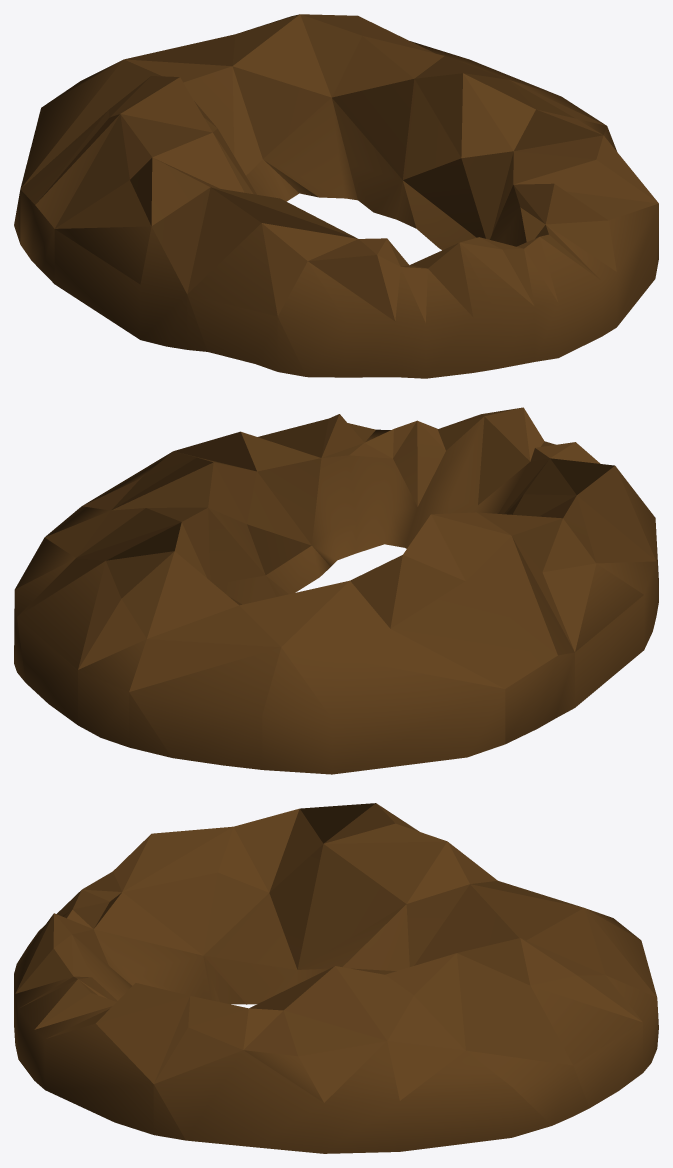
The model's file is dirthole_collider.fbx.
The picture shows the model from 3 angles, top to bottom: view 1: azimuth 30°, elevation 25°; view 2: azimuth 150°, elevation 25°; view 3: azimuth 270°, elevation 25°; orthographic projection. The views are drawn at different scales.
Parts seen in each view (by area): view 1: dirthole_collider; view 2: dirthole_collider; view 3: dirthole_collider.
Boxes of the visible parts, <box> form: dirthole_collider: <box>14,14,658,378</box>; dirthole_collider: <box>14,407,658,774</box>; dirthole_collider: <box>14,803,658,1153</box>.
Bounding box in the file's own units: 316 × 99.48 × 367.
